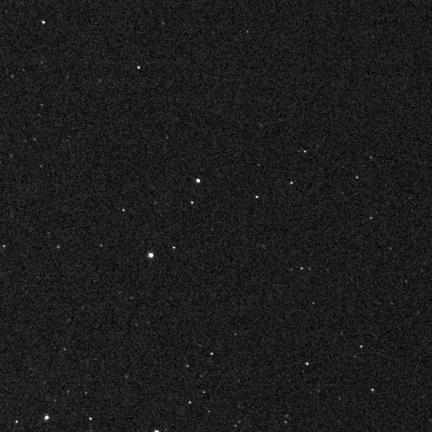blob: (196, 179, 200, 183)
